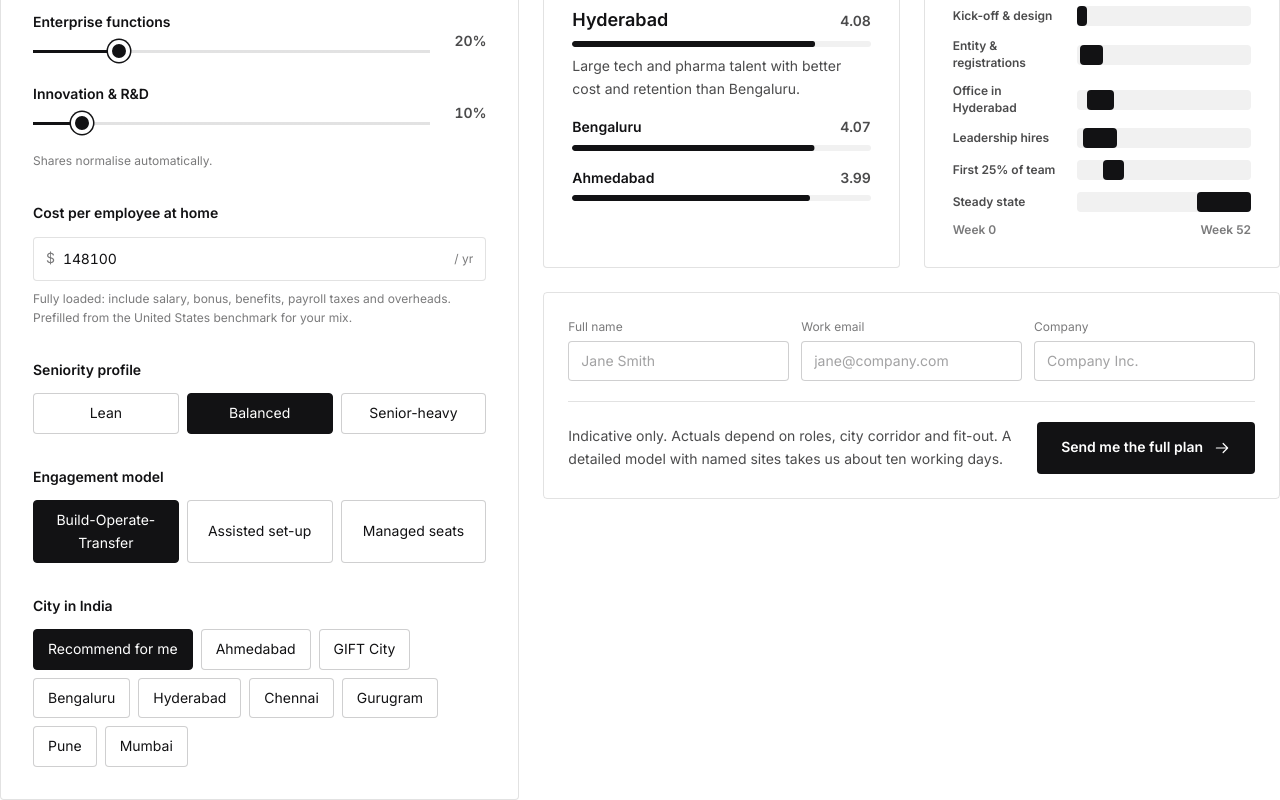
Test case: CostCalculator (GCC Planner) › switching to Managed seats changes the timeline phases
(page scrolled)
Check: the text "Entity & registrations" is shown, box [953,38,1026,70]
Click the button "Managed seats": {"x": 413, "y": 532} [340,500,486,563]
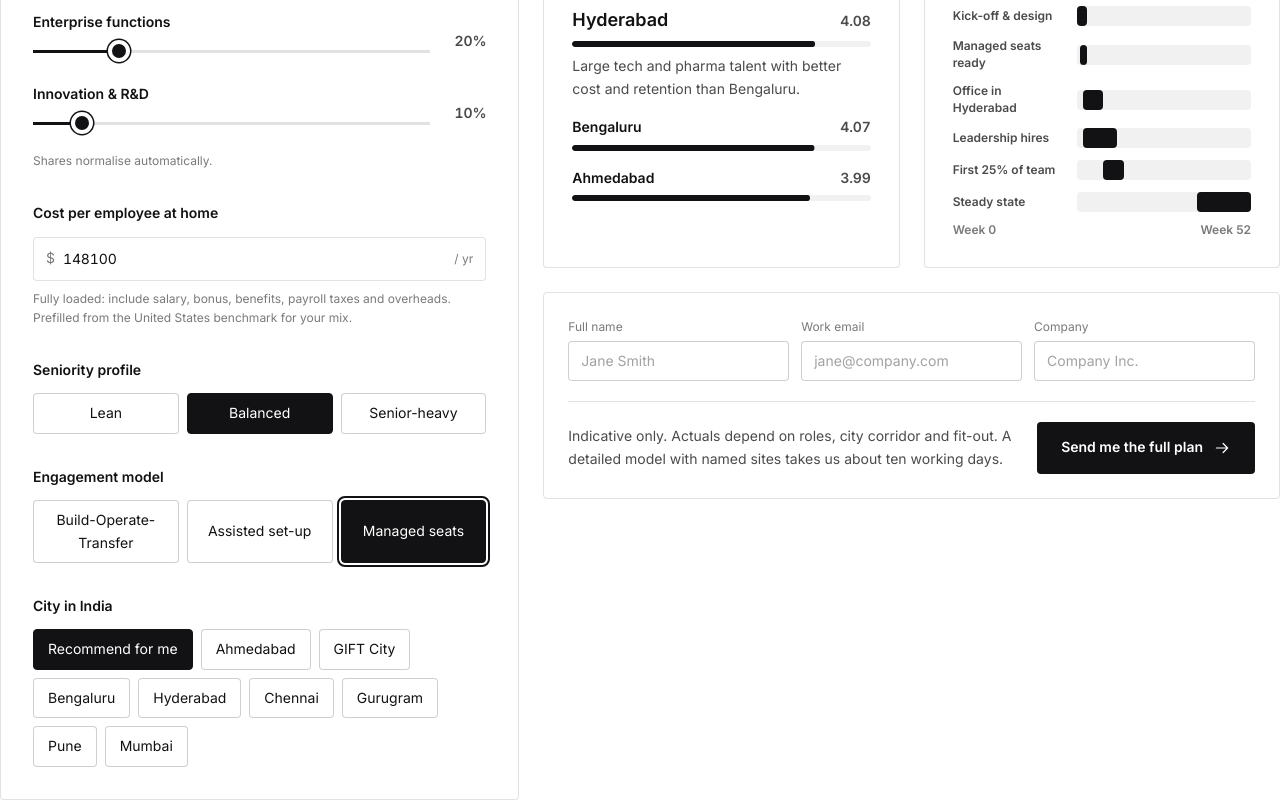
Check: the text "Managed seats ready" is shown, box [953,38,1041,70]
Check: the text "Entity & registrations" is gone
